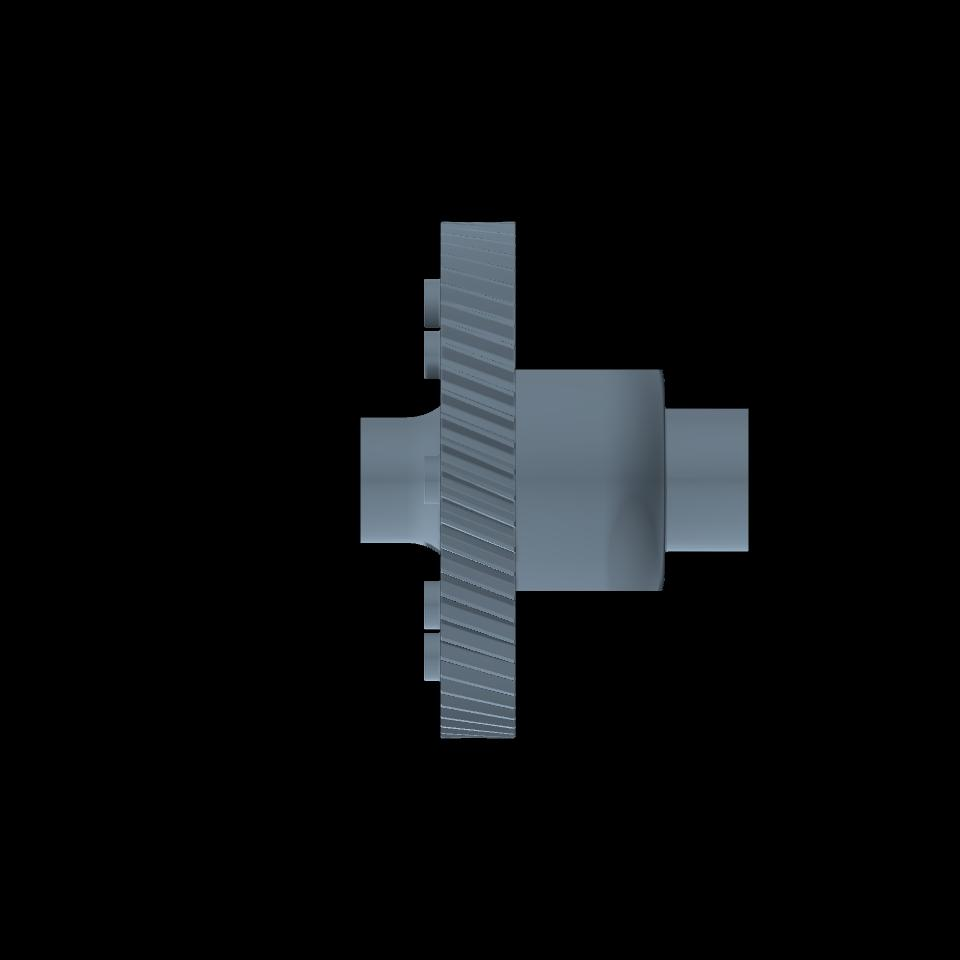Helical: (439, 223, 515, 736)
